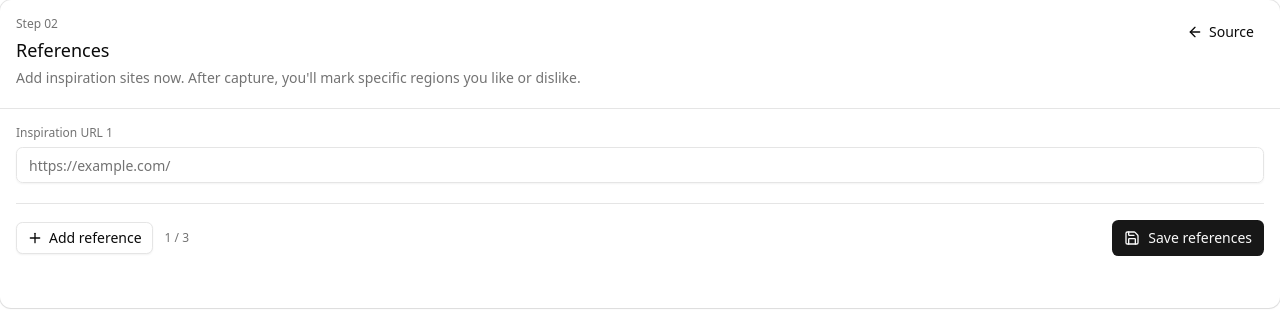
Test case: References step › rejects unsupported URL http://example.com
The width and height of the screenshot is (1280, 326).
Type "http://example.com" into the field labelled "Inspiration URL 1" at (640, 165), box [16, 147, 1264, 183]
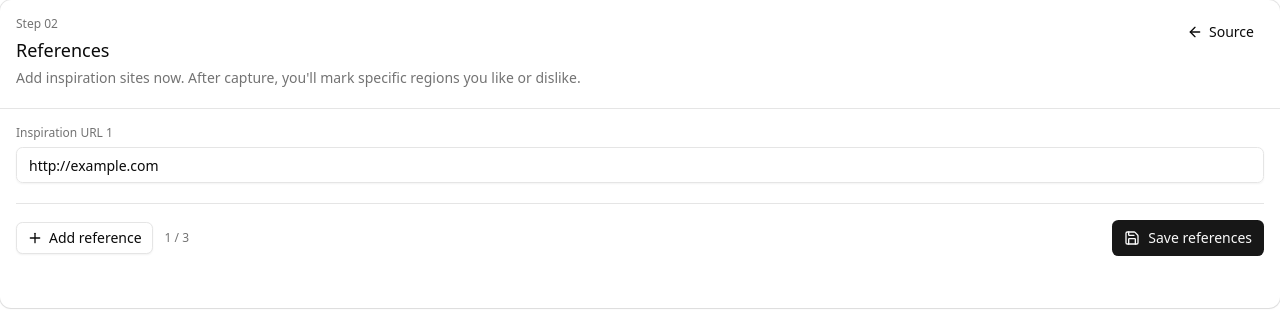
Click the button "Save references" at (1188, 238), box [1112, 220, 1264, 256]
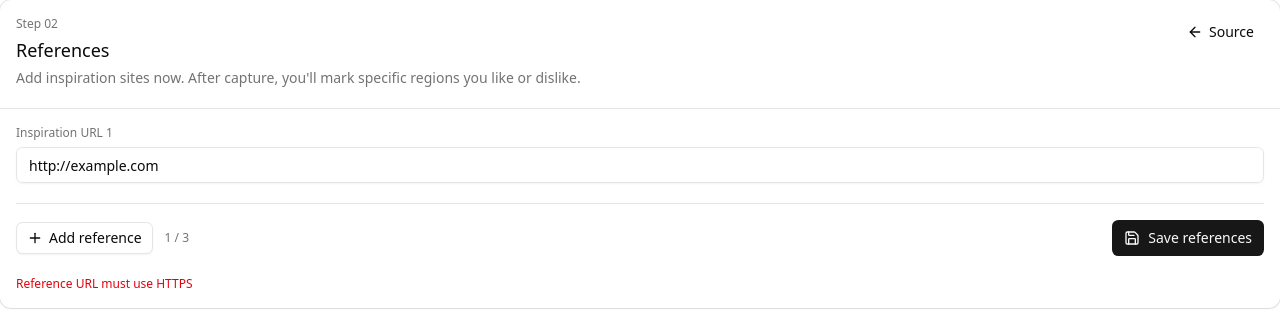
Expected: the message shows "must use HTTPS", [16, 275, 192, 292]
